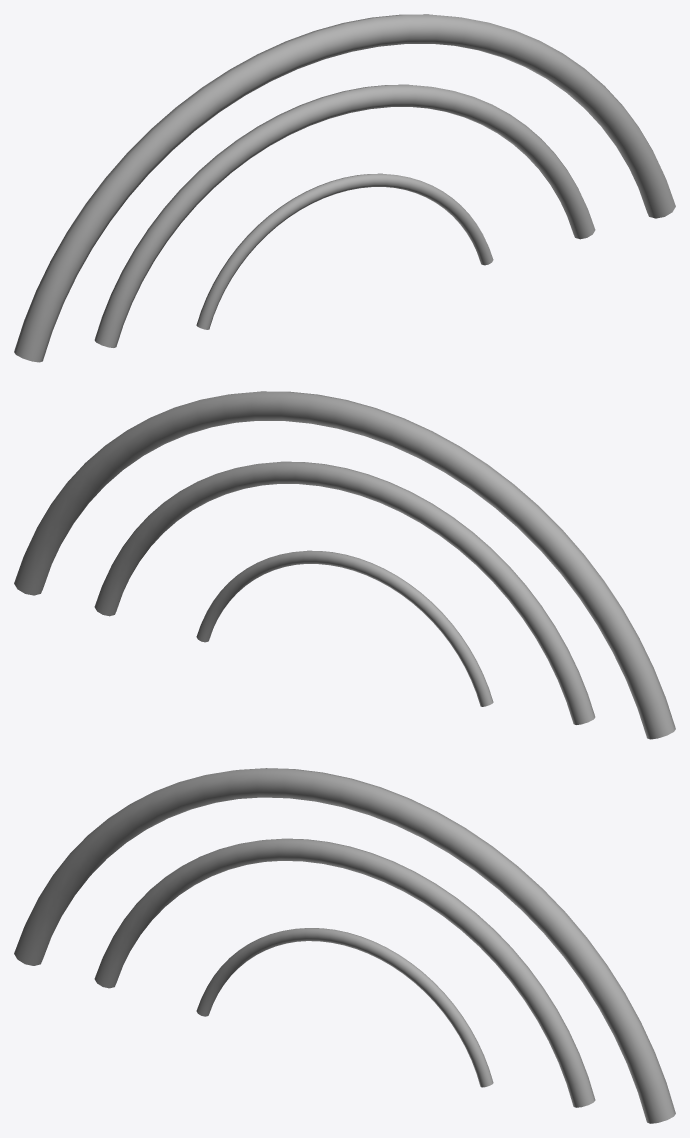
The model's file is ring_01.fbx.
The picture shows the model from 3 angles, top to bottom: view 1: azimuth 30°, elevation 25°; view 2: azimuth 150°, elevation 25°; view 3: azimuth 330°, elevation 25°; orthographic projection.
Parts seen in each view (by area): view 1: Arc004; view 2: Arc004; view 3: Arc004.
Boxes of the visible parts, box(x1,y1,x2,y2) form: Arc004: box(14, 14, 675, 362); Arc004: box(14, 391, 675, 739); Arc004: box(14, 768, 675, 1123).
Bounding box in the file's own units: 537 × 214 × 20.41.
